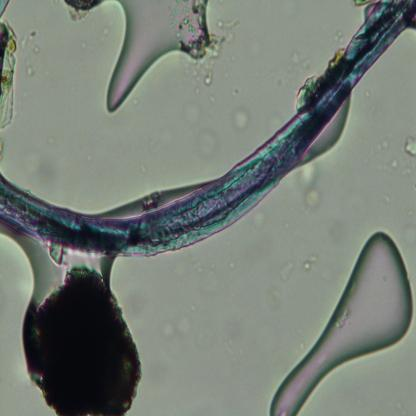Air bubble: (268, 228, 416, 416), (99, 0, 214, 117)
Background material: (0, 0, 416, 257), (20, 266, 144, 414), (0, 1, 20, 149), (305, 115, 352, 164), (189, 36, 224, 85), (294, 164, 326, 215), (65, 0, 106, 19), (162, 312, 193, 336), (228, 107, 251, 135), (302, 253, 317, 272), (404, 138, 415, 156)
